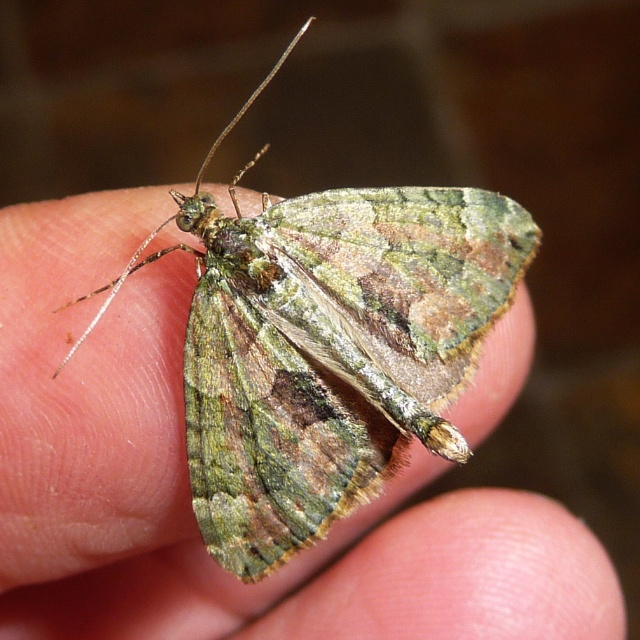Butterfly: (110, 100, 487, 583)
